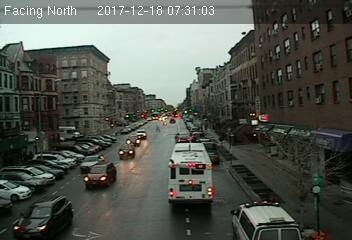bus: (167, 142, 215, 205)
car: (9, 195, 73, 238), (84, 162, 114, 186), (80, 153, 103, 170), (119, 145, 133, 158), (125, 136, 141, 145)
police: (230, 196, 301, 240)
